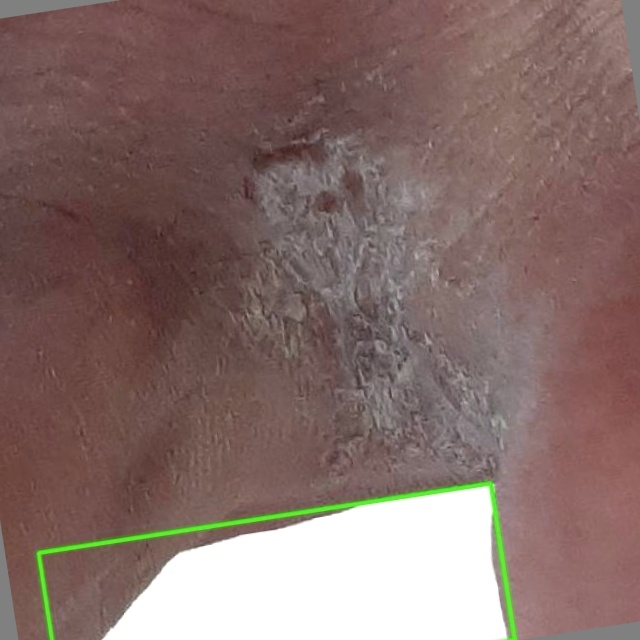Contact Dermatitis: (38, 483, 516, 639)
